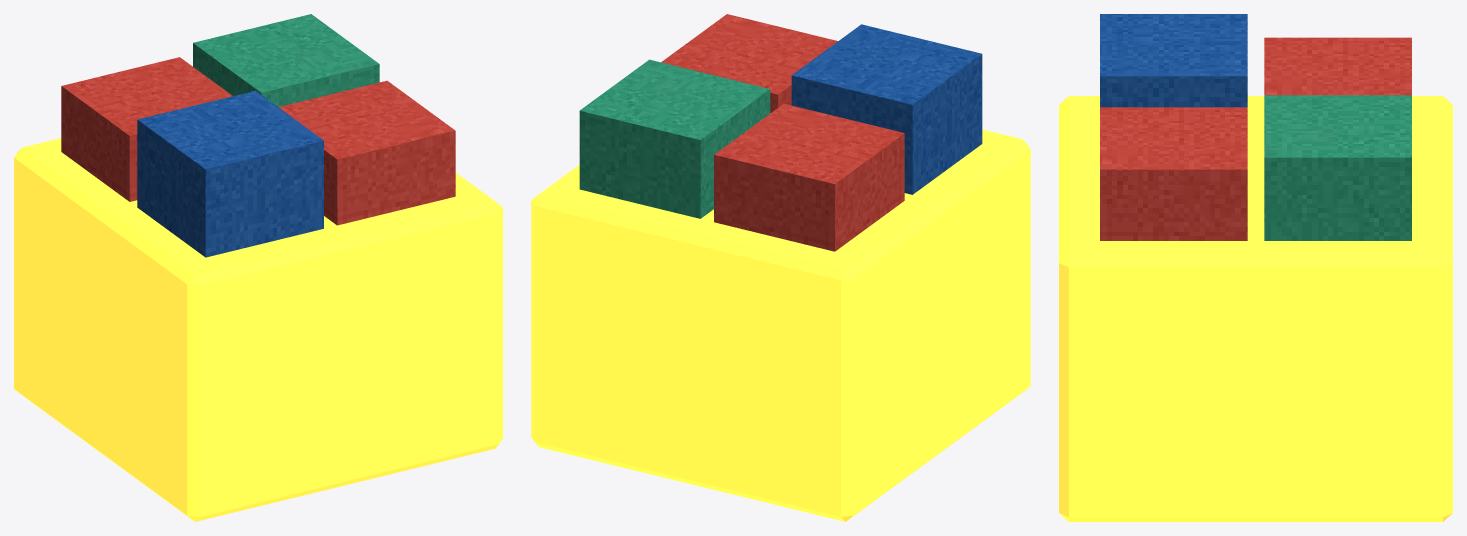
3 renders of one model, left to right at view 1: azimuth 30°, elevation 25°; view 2: azimuth 150°, elevation 25°; view 3: azimuth 270°, elevation 25°, orthographic. The views are drawn at different scales.
Parts seen in each view (by area): view 1: Decor_promo_bin; view 2: Decor_promo_bin; view 3: Decor_promo_bin.
Part boxes in pixels (<box>): Decor_promo_bin: <box>14,14,502,521</box>; Decor_promo_bin: <box>531,14,1030,521</box>; Decor_promo_bin: <box>1059,14,1452,521</box>.
Size of the model in its own units: 1.2 by 1.22 by 1.2.
4 materials, 3 textured.
